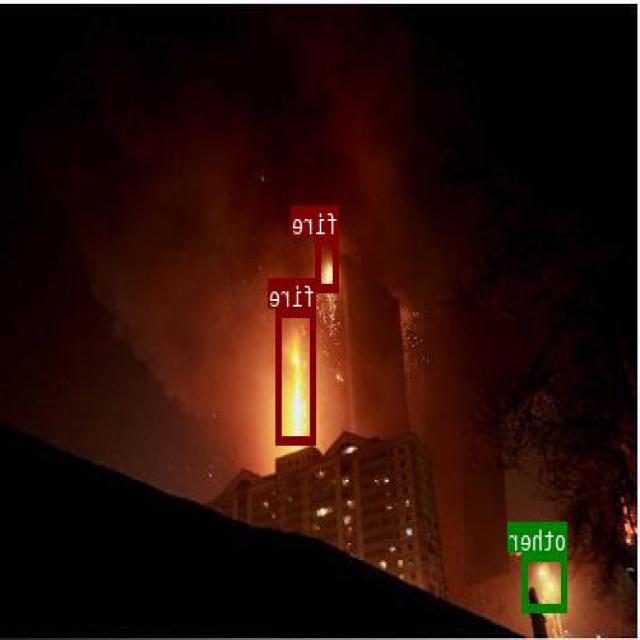fire: (277, 307, 317, 444), (316, 236, 340, 292)
other: (524, 551, 568, 611)
